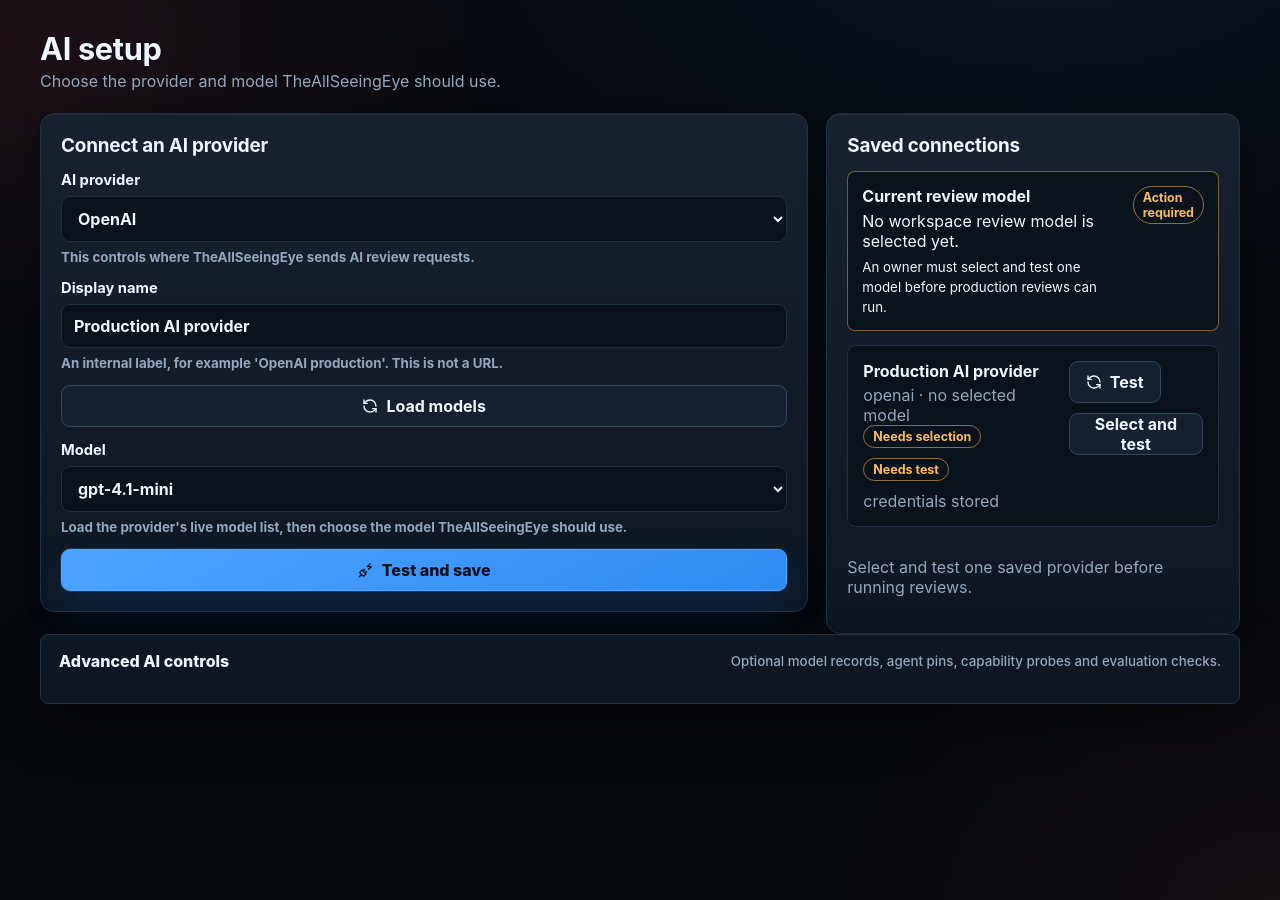
Test: ProviderSettings › handles saved connection refreshes that return no models
Click the button "Select and test" at [1136, 434], box left=1069, top=413, right=1203, bottom=455
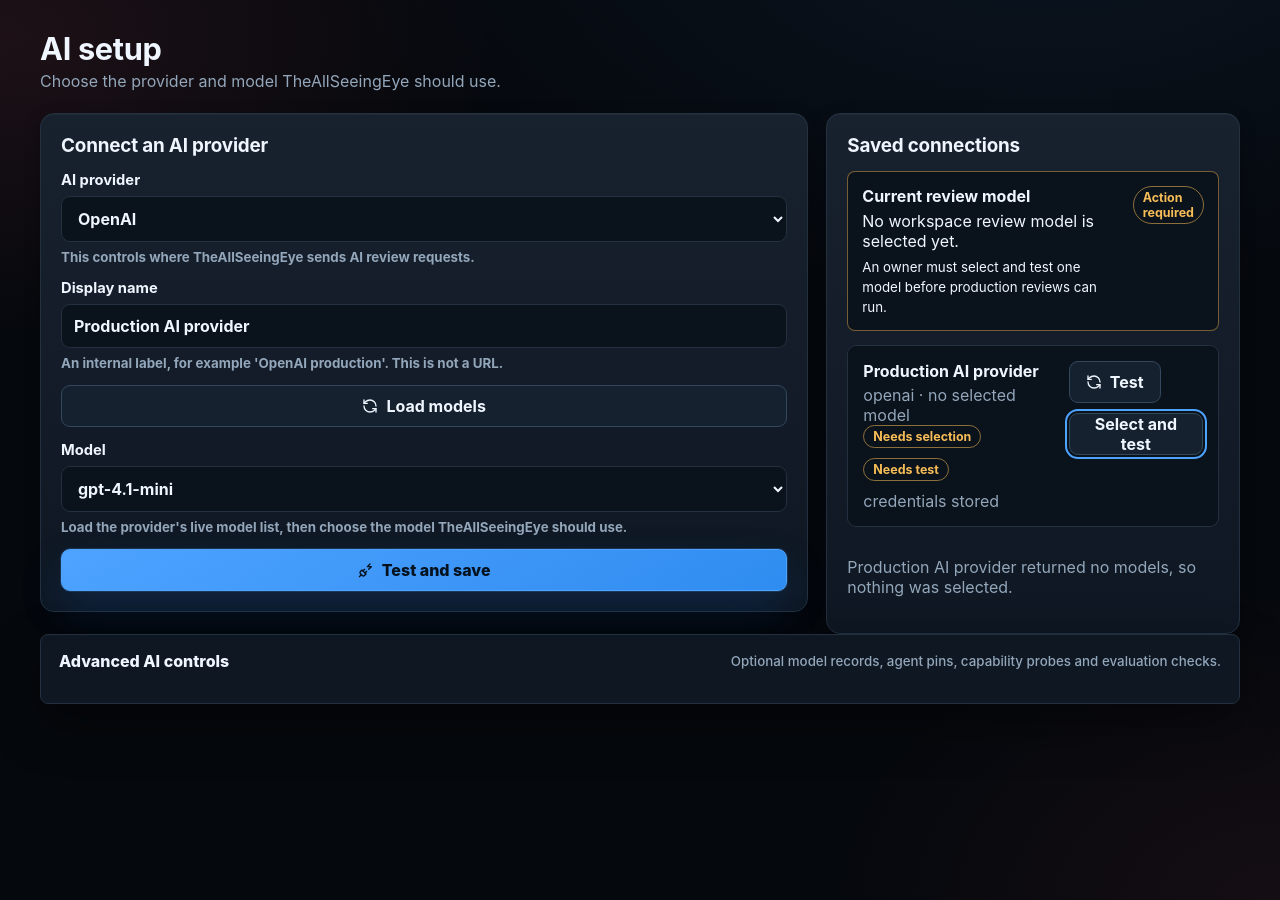
Now the text "Production AI provider returned no models, so nothing was selected." is shown, box left=847, top=557, right=1219, bottom=597
